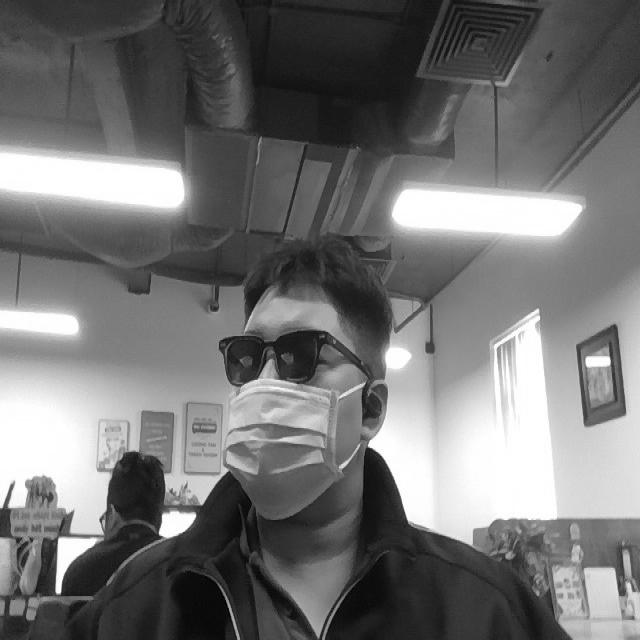fake: (220, 383, 357, 524), (217, 330, 376, 388)
